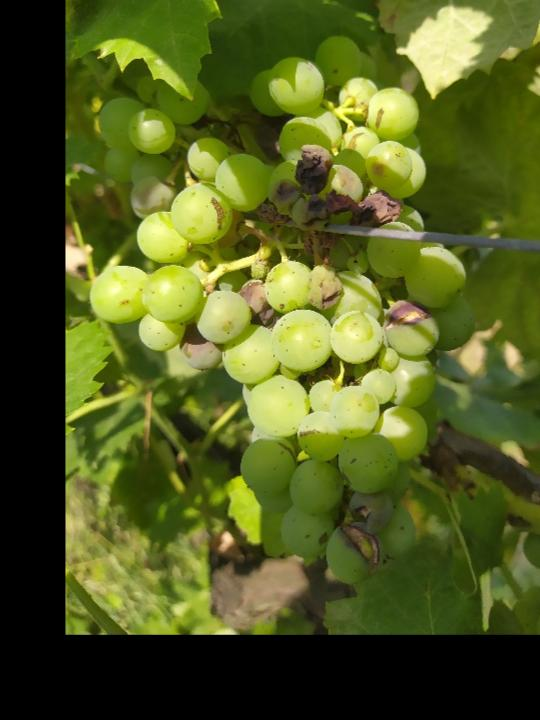grape: (85, 35, 476, 598)
